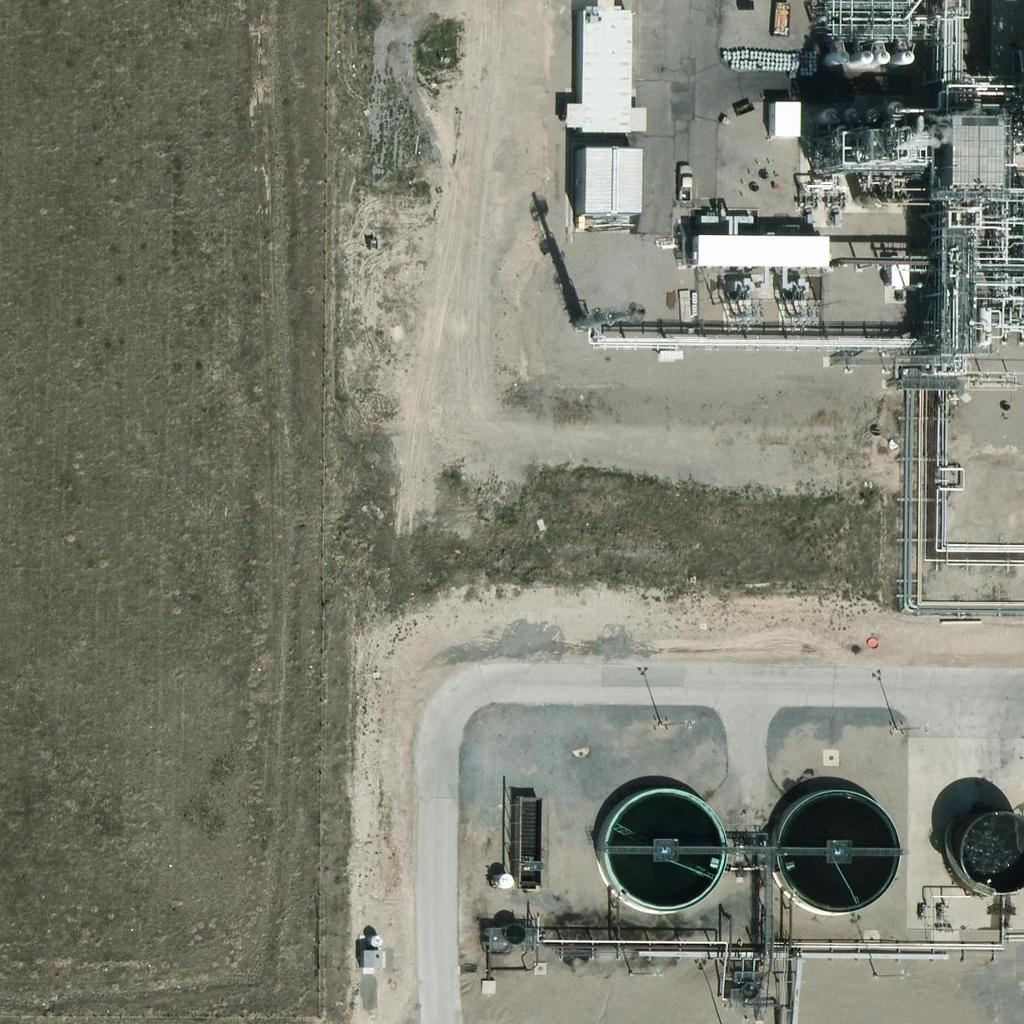car: (670, 165, 704, 199)
